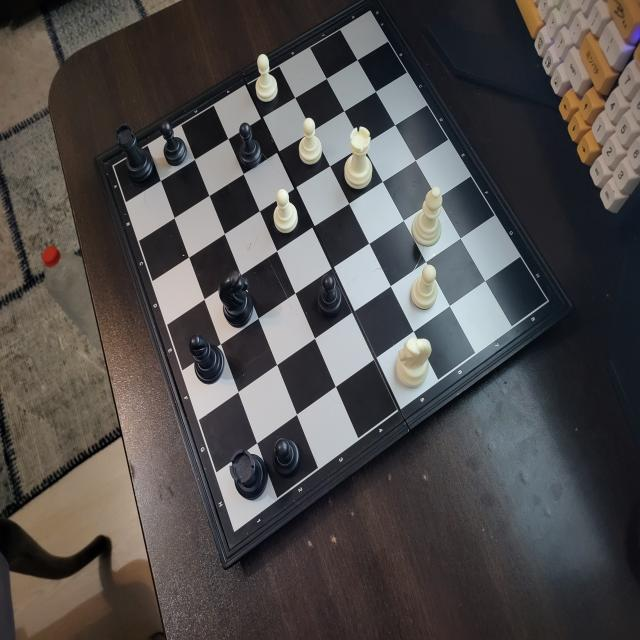black-bishop: (187, 333, 225, 386)
black-knight: (219, 268, 255, 329)
black-pawn: (236, 119, 263, 169), (160, 120, 188, 168), (316, 273, 344, 318), (272, 438, 302, 478)
black-rook: (114, 123, 155, 186), (228, 448, 270, 502)
chess-board: (108, 2, 558, 553)
white-bishop: (410, 183, 444, 248)
white-knight: (396, 336, 432, 392)
white-pawn: (410, 264, 440, 312), (297, 116, 323, 166), (254, 53, 279, 104), (272, 188, 299, 235)
white-rook: (343, 124, 374, 196)
